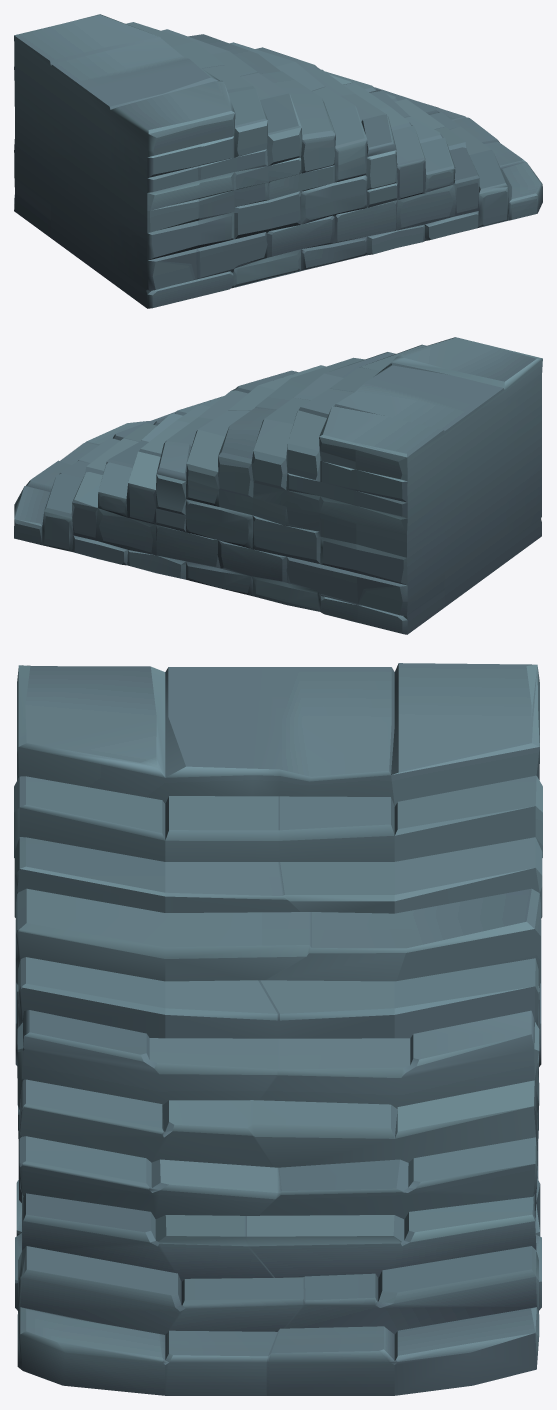
Rendered from Modular_Dungeon_Stairs.fbx.
3 views of the same model, one above another, from view 1: azimuth 30°, elevation 25°; view 2: azimuth 150°, elevation 25°; view 3: azimuth 270°, elevation 25° (orthographic). The views are drawn at different scales.
Visible parts, largest first — view 1: Stairs; view 2: Stairs; view 3: Stairs.
Boxes of the visible parts, left/top/right/bottom form: Stairs: left=14, top=14, right=542, bottom=308; Stairs: left=14, top=337, right=542, bottom=634; Stairs: left=14, top=663, right=542, bottom=1395.
Bounding box in the file's own units: 12.58 × 5.12 × 7.17.
1 material, 1 textured.
